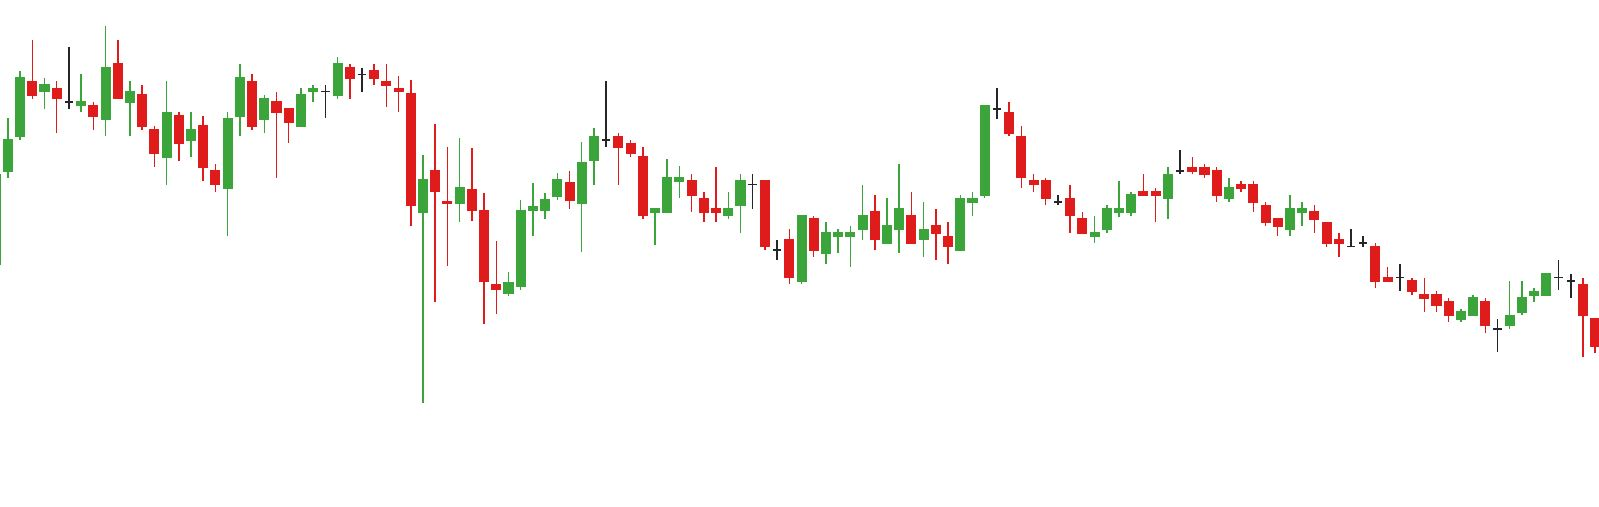sell: (440, 83, 614, 223), (159, 65, 259, 167)
